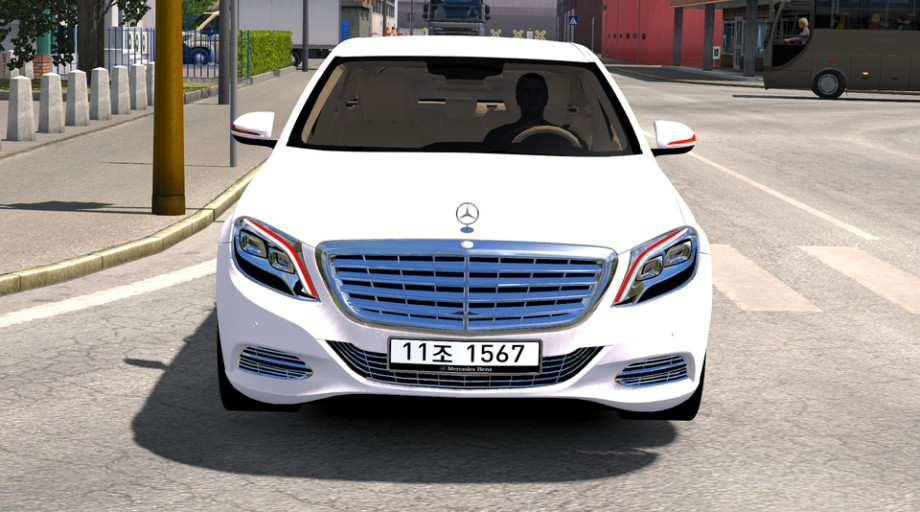car: (383, 334, 546, 372)
